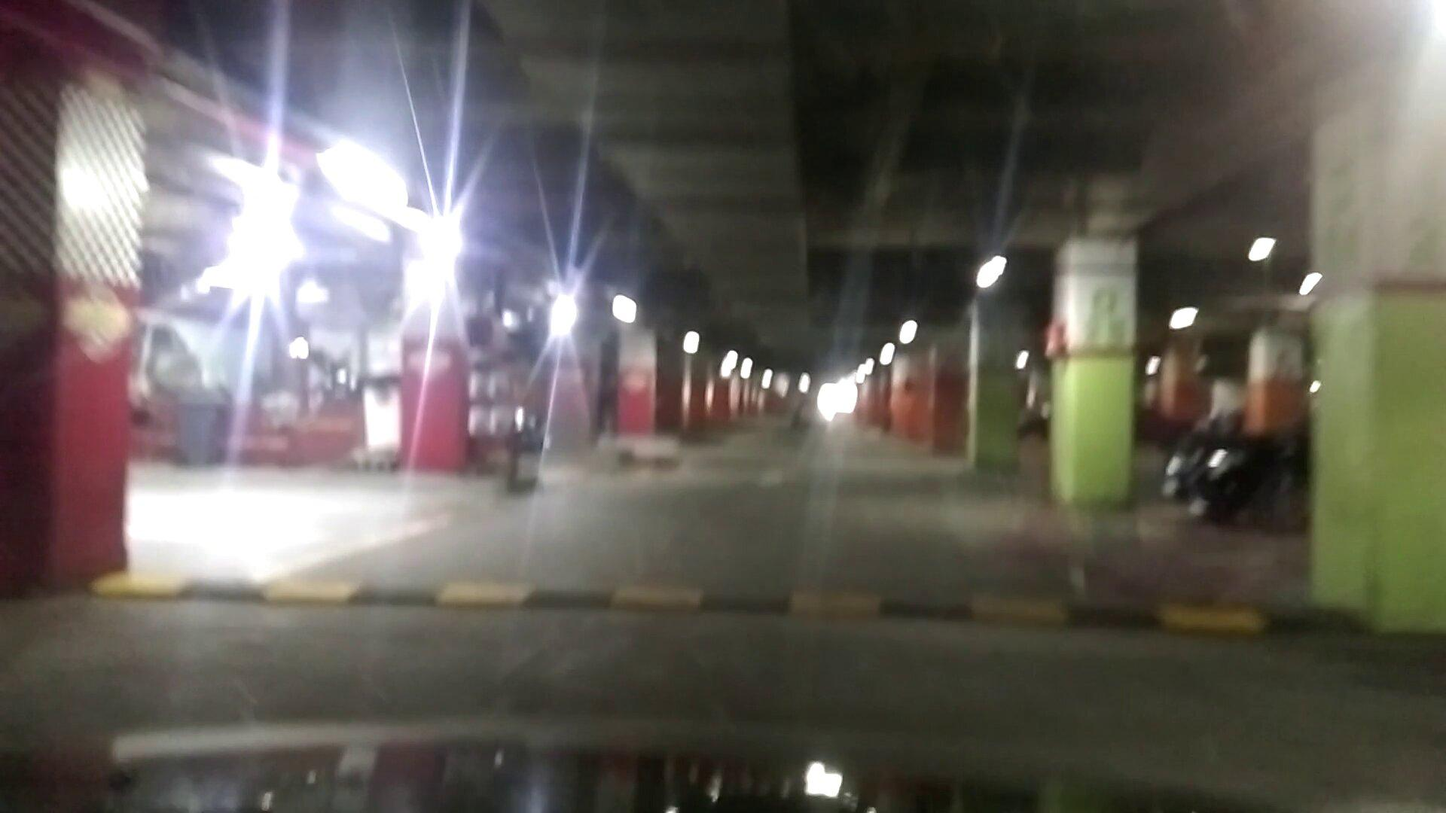Bump: (126, 561, 1331, 647)
